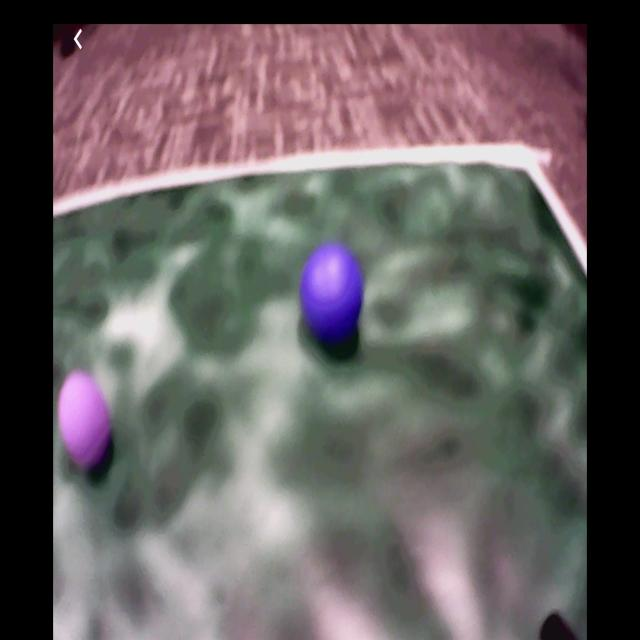ball: (302, 248, 363, 337), (60, 375, 111, 463)
